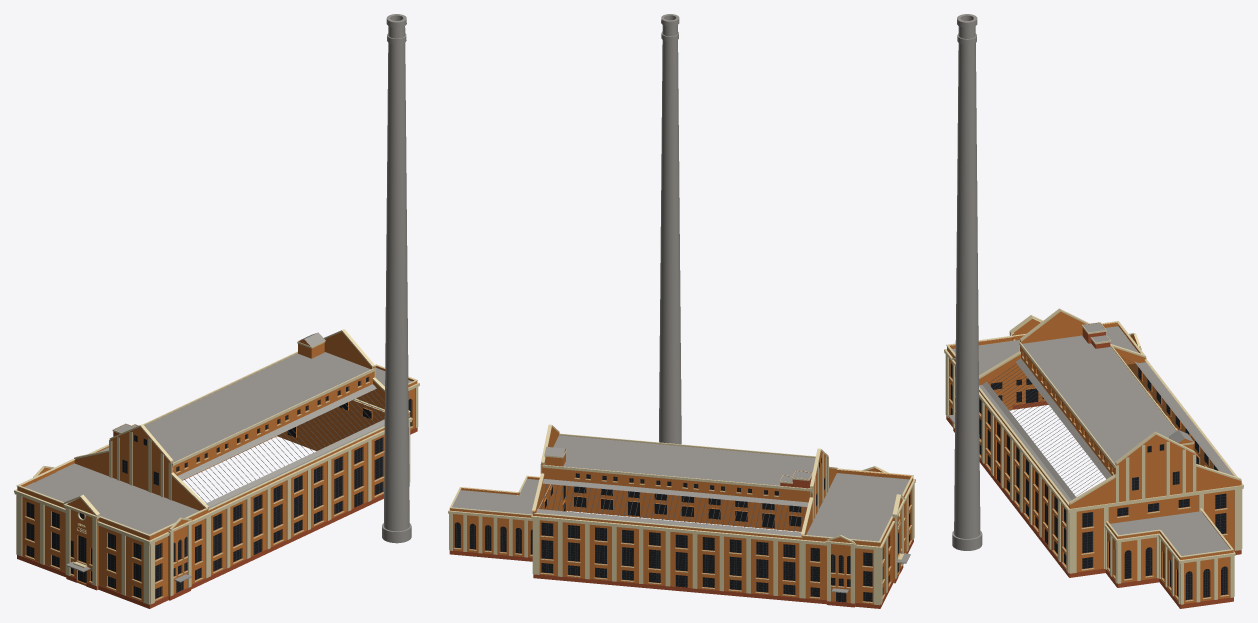
The model's file is USINA_GASOMETRO.fbx.
3 renders of one model, left to right at view 1: azimuth 30°, elevation 25°; view 2: azimuth 150°, elevation 25°; view 3: azimuth 270°, elevation 25°, orthographic. The views are drawn at different scales.
Parts seen in each view (by area): view 1: Usina_Paredes, Usina_Lajes, Usina_Pilastras_Cornijas, Chamine, Usina_Vidros, Usina_Esquadrias, Usina_Telhados, Usina_Embasamento; view 2: Usina_Paredes, Usina_Lajes, Usina_Pilastras_Cornijas, Usina_Vidros, Chamine, Usina_Esquadrias, Usina_Telhados, Usina_Embasamento; view 3: Usina_Paredes, Usina_Lajes, Usina_Pilastras_Cornijas, Chamine, Usina_Vidros, Usina_Esquadrias, Usina_Telhados, Usina_Embasamento.
Boxes of the visible parts, x1,y1,x2,y2 form: Usina_Paredes: [17, 332, 417, 601]; Usina_Lajes: [25, 352, 411, 534]; Usina_Pilastras_Cornijas: [14, 329, 419, 604]; Chamine: [382, 14, 411, 543]; Usina_Vidros: [26, 377, 411, 598]; Usina_Esquadrias: [26, 378, 411, 598]; Usina_Telhados: [177, 332, 384, 507]; Usina_Embasamento: [17, 427, 417, 608]; Usina_Paredes: [450, 427, 913, 606]; Usina_Lajes: [452, 435, 909, 541]; Usina_Pilastras_Cornijas: [448, 424, 915, 605]; Usina_Vidros: [455, 458, 910, 602]; Chamine: [659, 14, 681, 444]; Usina_Esquadrias: [454, 461, 909, 601]; Usina_Telhados: [536, 446, 808, 536]; Usina_Embasamento: [449, 539, 913, 608]; Usina_Paredes: [947, 311, 1241, 603]; Usina_Lajes: [952, 322, 1233, 555]; Usina_Pilastras_Cornijas: [944, 308, 1243, 604]; Chamine: [952, 14, 982, 550]; Usina_Vidros: [950, 358, 1227, 599]; Usina_Esquadrias: [951, 353, 1227, 600]; Usina_Telhados: [982, 358, 1222, 499]; Usina_Embasamento: [946, 401, 1241, 608].
Size of the model in its own units: 103 by 117 by 60.42.
